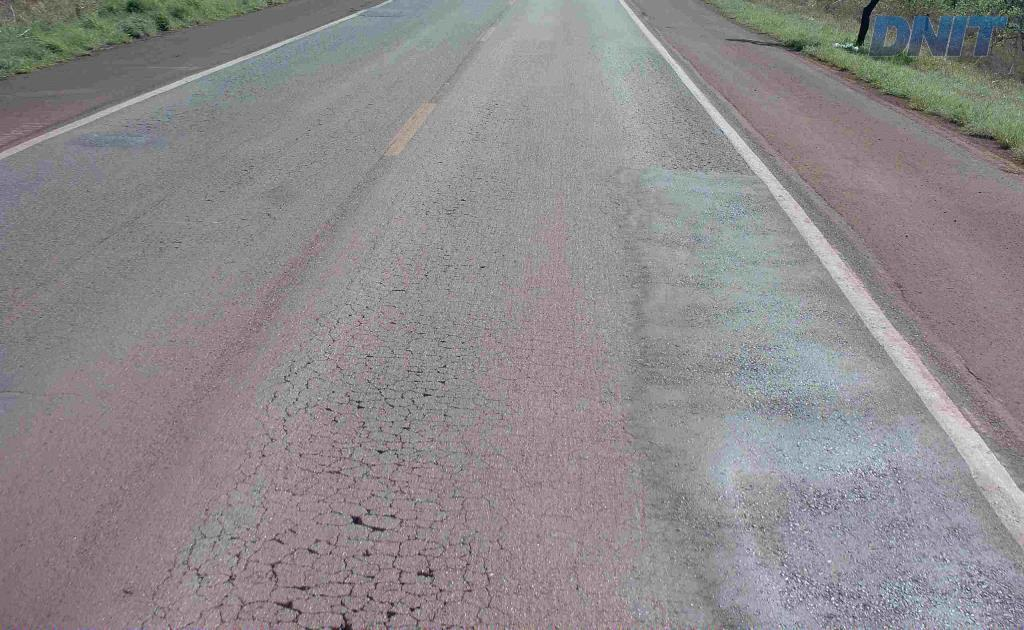crack: (283, 555, 404, 629), (414, 536, 480, 604), (368, 423, 414, 486), (406, 587, 456, 629), (262, 596, 325, 629)
